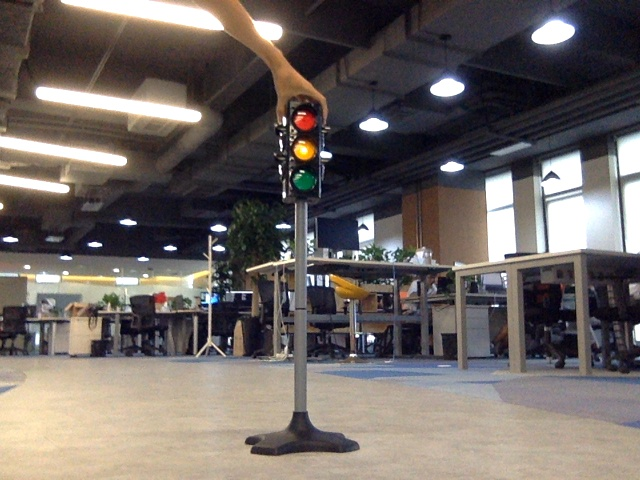yellow: (288, 108, 318, 193)
